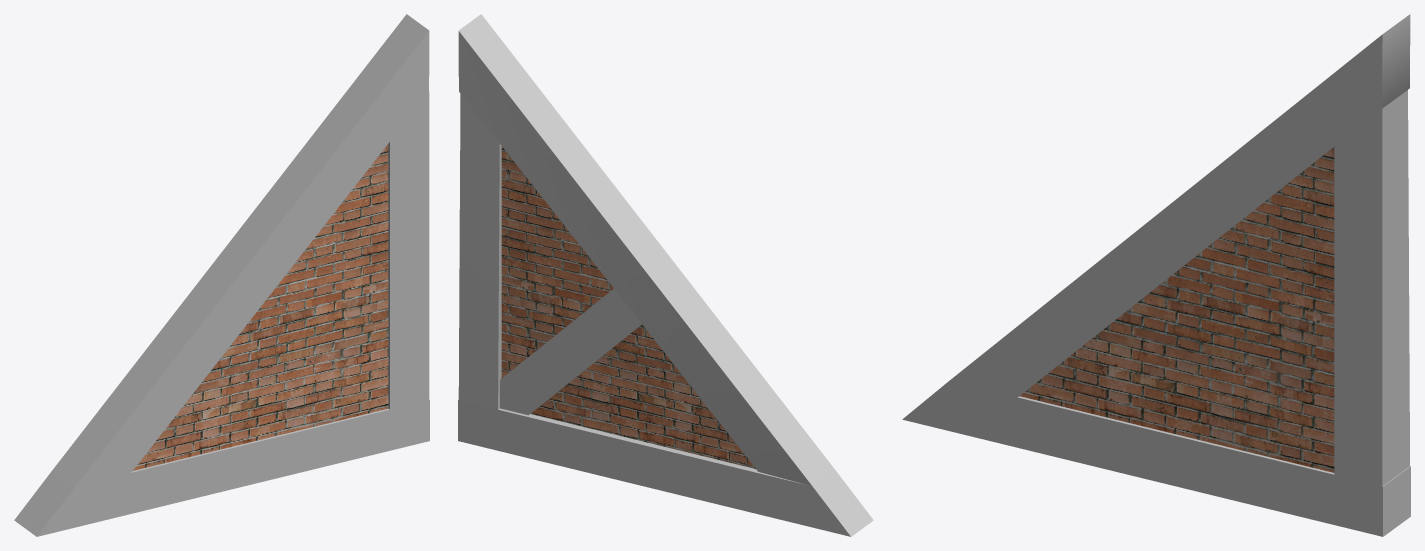
The model's file is House Half Brick Triangle Right.fbx.
3 renders of one model, left to right at view 1: azimuth 30°, elevation 25°; view 2: azimuth 150°, elevation 25°; view 3: azimuth 330°, elevation 25°, orthographic. The views are drawn at different scales.
Parts seen in each view (by area): view 1: House Half Timber Triangle; view 2: House Half Timber Triangle; view 3: House Half Timber Triangle.
Boxes of the visible parts, box(x1,y1,x2,y2) form: House Half Timber Triangle: box(14, 14, 429, 536); House Half Timber Triangle: box(458, 14, 873, 536); House Half Timber Triangle: box(902, 14, 1410, 536).
Bounding box in the file's own units: 250 × 250 × 25.
